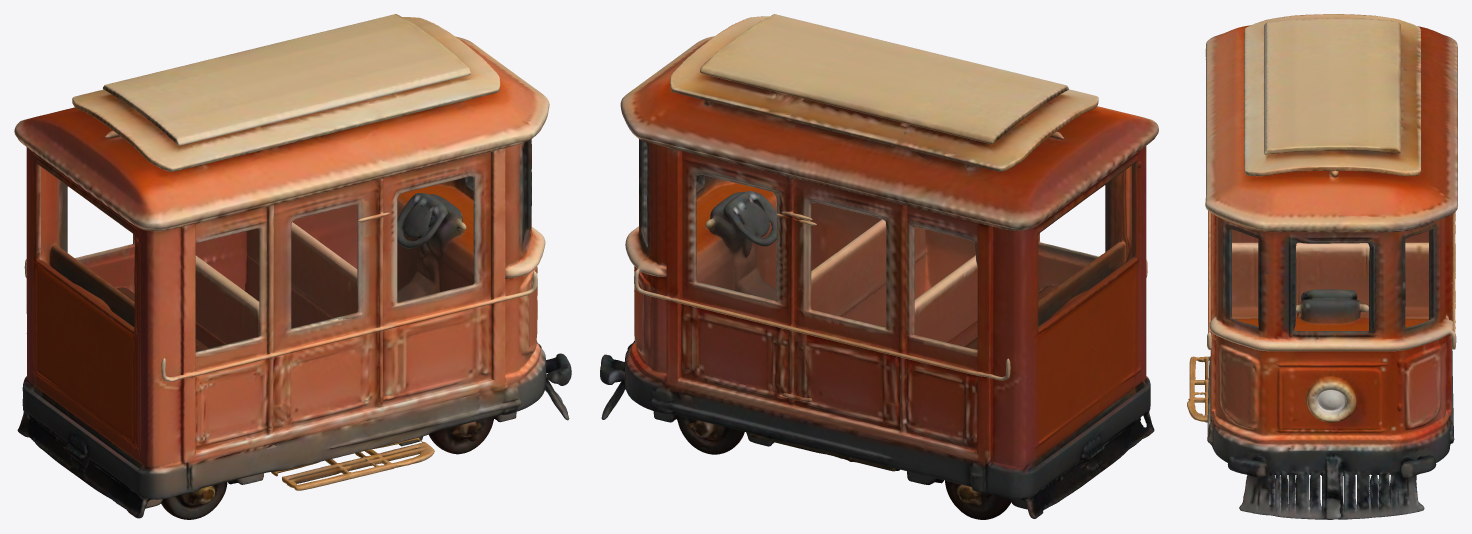
Rendered from tripo_convert_abaf5c6d-c5c1-4c6a-86b0-312817323bab.fbx.
The picture shows the model from 3 angles, left to right: view 1: azimuth 30°, elevation 25°; view 2: azimuth 150°, elevation 25°; view 3: azimuth 270°, elevation 25°; orthographic projection. The views are drawn at different scales.
Visible parts, largest first — view 1: tripo_node_abaf5c6d; view 2: tripo_node_abaf5c6d; view 3: tripo_node_abaf5c6d.
Part boxes in pixels (x1=…): tripo_node_abaf5c6d: x1=14, y1=14, x2=571, y2=519; tripo_node_abaf5c6d: x1=600, y1=14, x2=1158, y2=519; tripo_node_abaf5c6d: x1=1187, y1=14, x2=1457, y2=519.
Size of the model in its own units: 1 by 0.7804 by 0.5591.
Materials: 1 (1 with a texture image).
